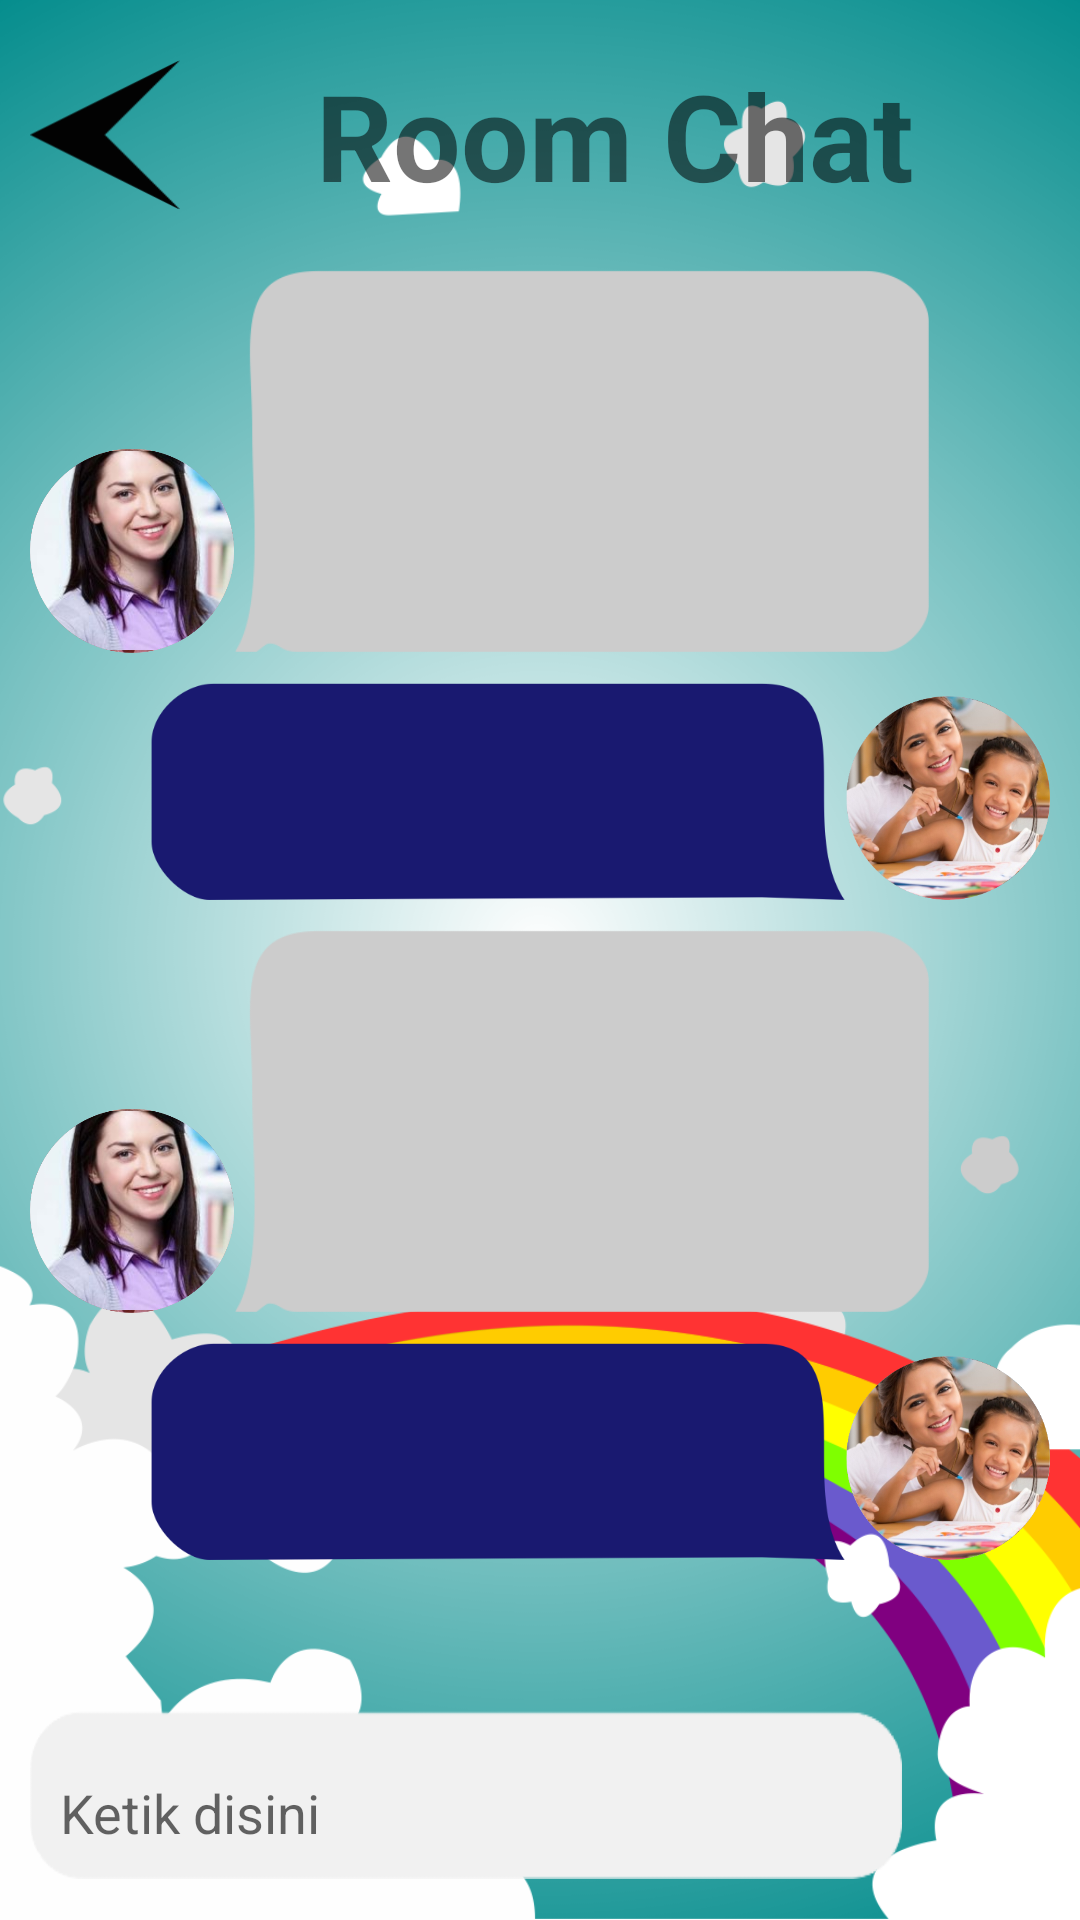

Named icons in this screenshot (1080px×1920px) and their centers, (x=x, y=y):
back: (x=105, y=134)
mom: (x=948, y=791), (x=948, y=1451)
